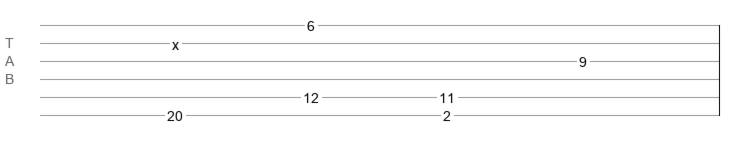11: (439, 90, 455, 100)
12: (303, 90, 319, 100)
2: (443, 108, 451, 118)
20: (167, 108, 183, 118)
6: (307, 18, 315, 28)
9: (579, 54, 587, 64)
x: (172, 37, 179, 45)
